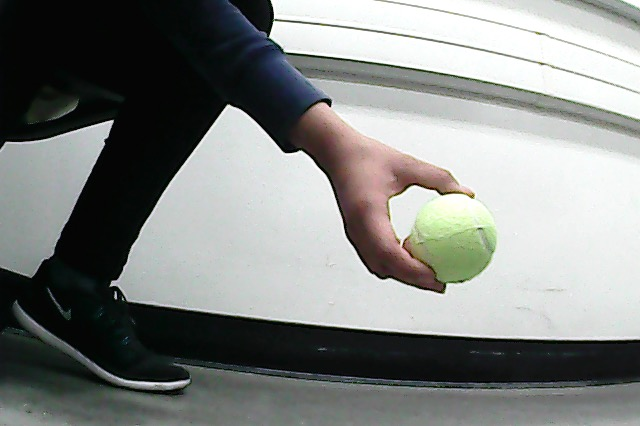ball: (409, 194, 497, 284)
